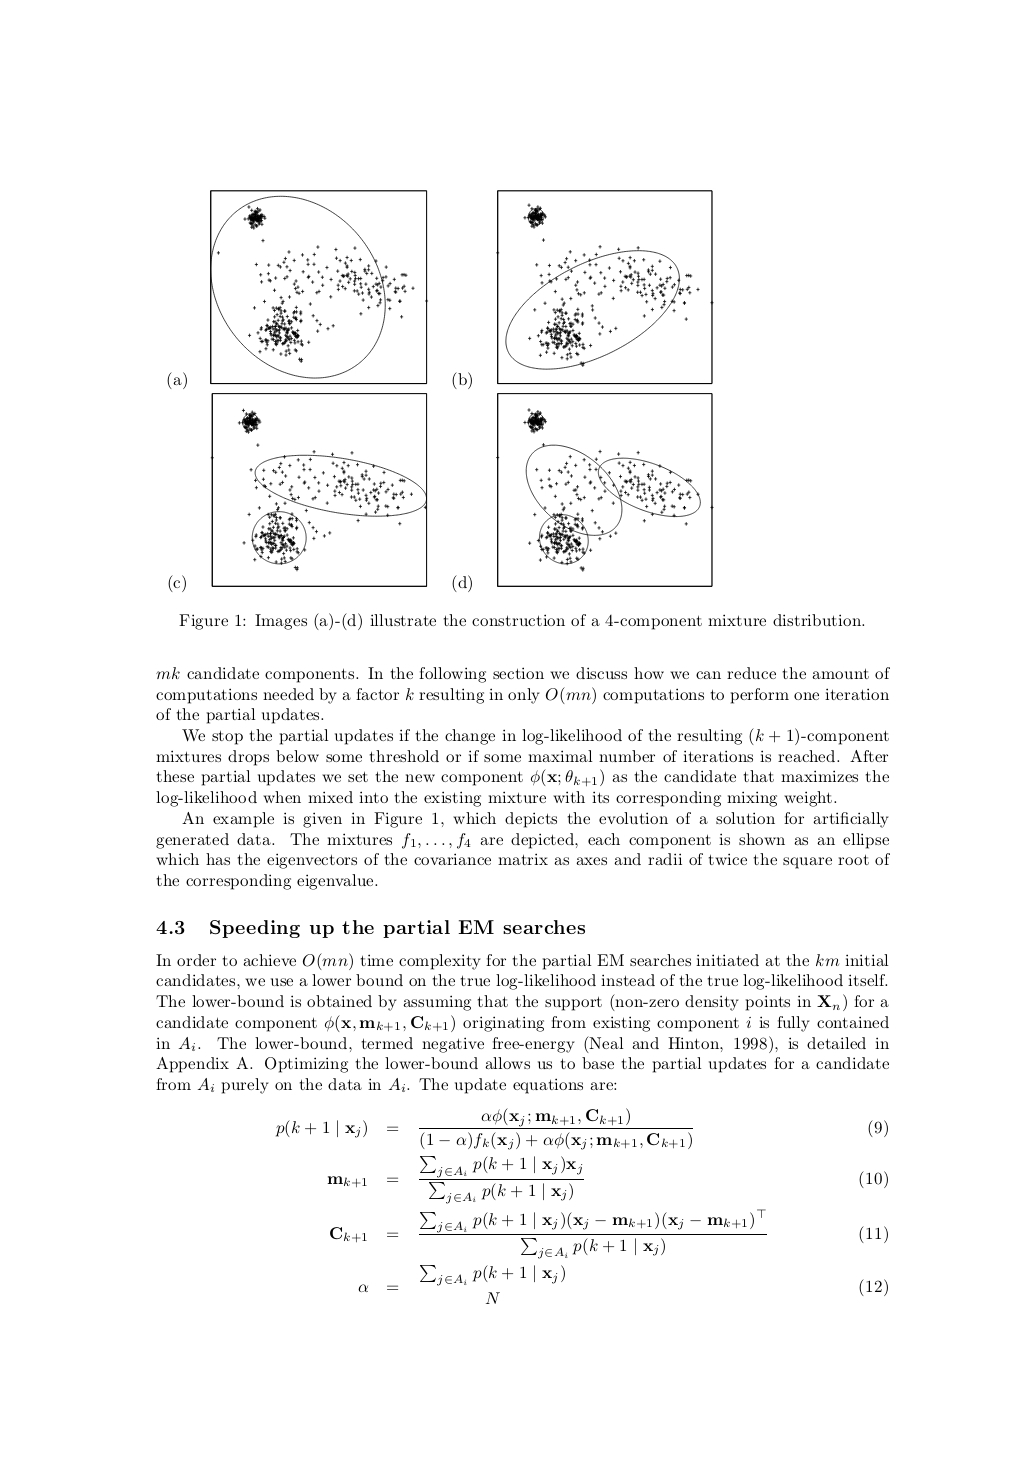figure: (497, 189, 713, 385), (497, 392, 713, 587), (210, 190, 427, 384), (210, 393, 427, 586)
formula: (330, 1208, 887, 1259), (327, 1154, 887, 1204), (274, 1107, 887, 1150), (358, 1264, 887, 1304)
